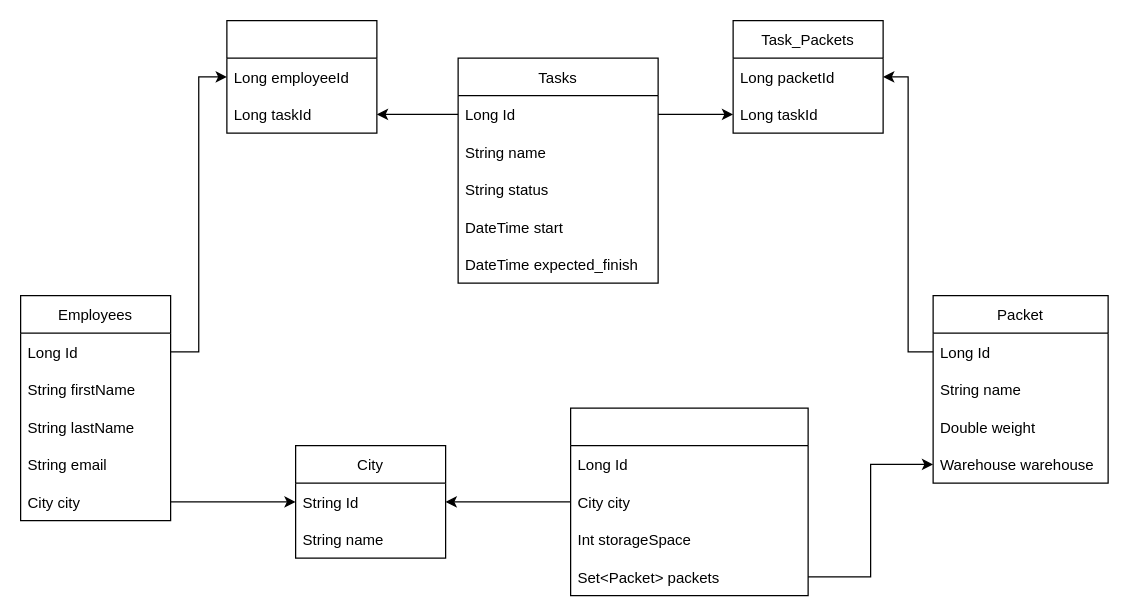
The diagram is 1129 pixels wide and 616 high, and some of its shapes have lost their labels. The box of each missing label's shape, as (x1, y1, x2, y2) in pixels:
Task_Employees: (226, 19, 377, 133)
Warehouse: (569, 407, 808, 596)
